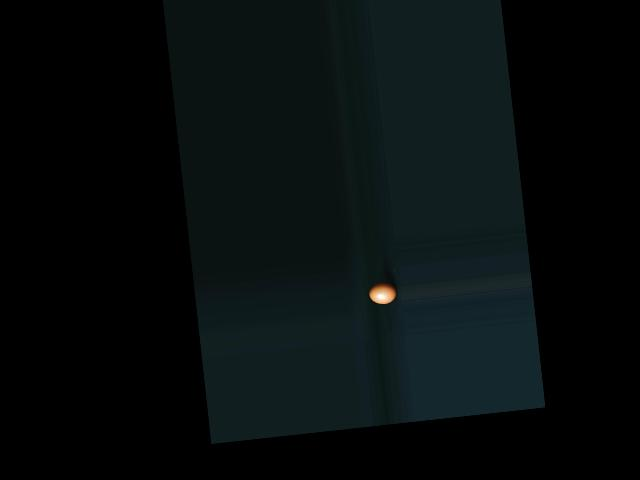egg: (368, 281, 397, 304)
